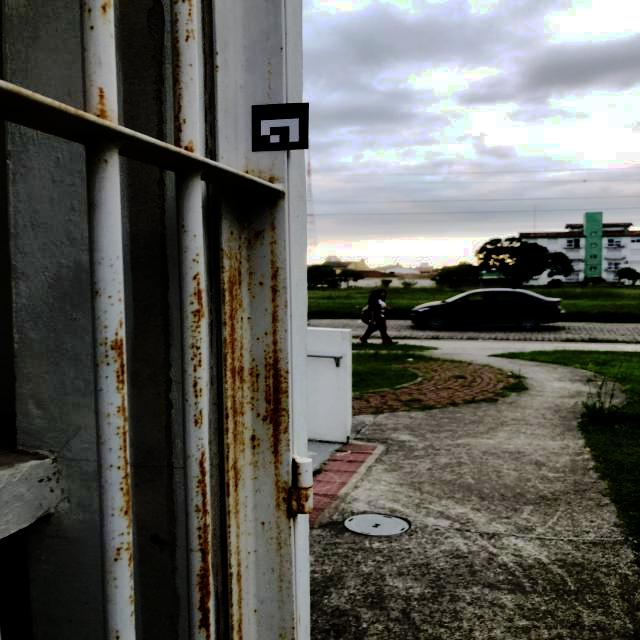Corrosion: (220, 247, 261, 640), (261, 216, 314, 519), (104, 319, 133, 529), (194, 449, 212, 640), (232, 187, 280, 231), (188, 271, 206, 374), (174, 93, 194, 154), (173, 0, 195, 43), (112, 540, 133, 581), (93, 86, 115, 124), (62, 132, 108, 150), (173, 13, 181, 88), (271, 521, 288, 552), (244, 169, 277, 183), (193, 408, 204, 431), (193, 376, 203, 399), (252, 454, 264, 468), (101, 1, 113, 14), (253, 229, 262, 239), (6, 109, 24, 114), (276, 635, 289, 640), (115, 630, 121, 640), (291, 621, 294, 640), (191, 257, 199, 264), (285, 296, 289, 310), (247, 270, 253, 279), (129, 594, 134, 603), (236, 245, 243, 251), (247, 238, 252, 246), (259, 522, 265, 528), (87, 8, 91, 14), (118, 532, 124, 536), (216, 62, 219, 70), (194, 401, 198, 406), (130, 611, 133, 617), (259, 282, 263, 286), (90, 26, 93, 31), (127, 531, 130, 536)
